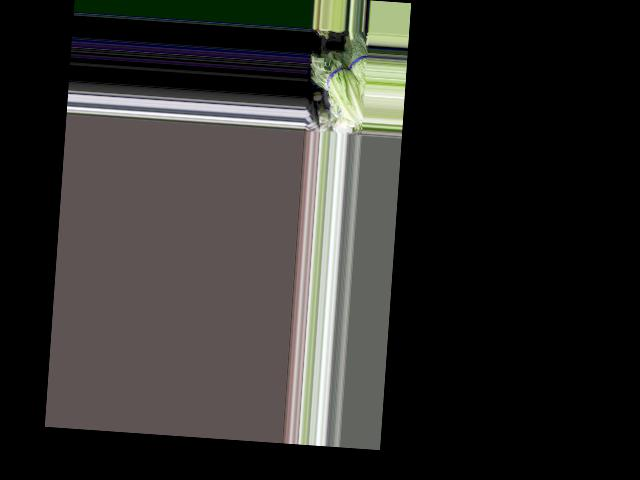lettuce: (311, 52, 367, 120)
